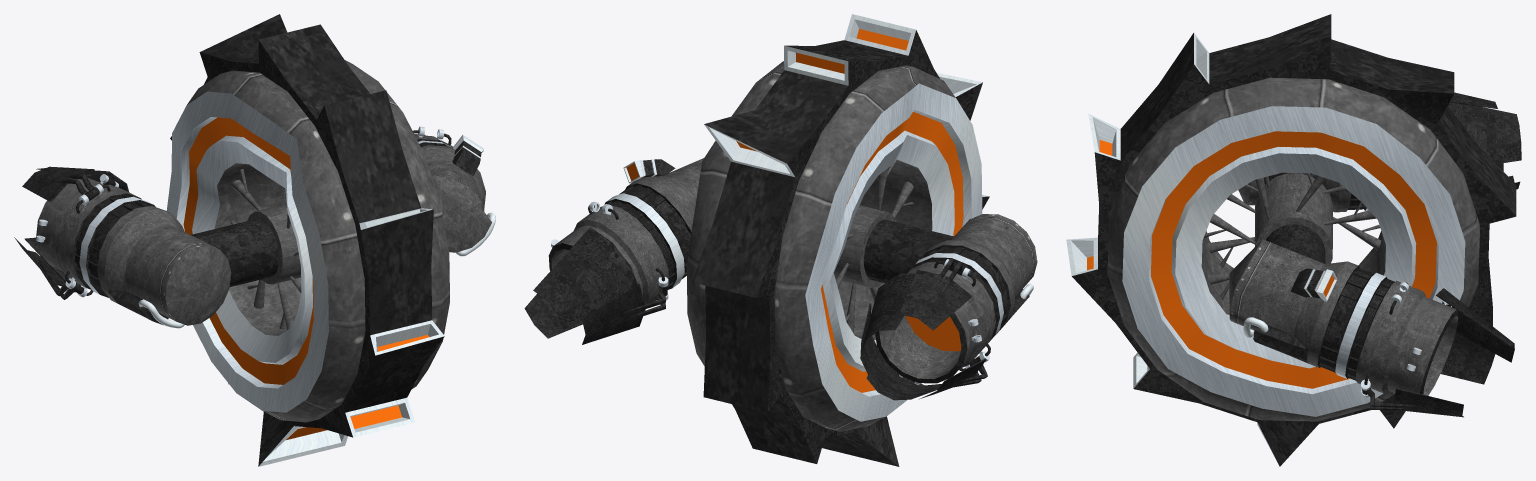
Rendered from DeathWheel_60.dae.
3 renders of one model, left to right at view 1: azimuth 30°, elevation 25°; view 2: azimuth 150°, elevation 25°; view 3: azimuth 270°, elevation 25°, orthographic. The views are drawn at different scales.
Parts seen in each view (by area): view 1: DeathWheel_2, rightThruster, leftThruster, Axel, polySurface115, rightSpokes, ThickSpinner_ncl1_1, polySurface99, ThinSpinner_ncl1_1; view 2: DeathWheel_2, rightThruster, leftThruster, inFlap2, Axel, polySurface115, outFlap2, polySurface113, polySurface106, ThickSpinner, rightSpokes, outFlap1 (+4 smaller); view 3: DeathWheel_2, leftThruster, polySurface113, ThickSpinner, inFlap2, leftSpokes, outFlap2, outFlap1, Axel, rightSpokes, ThinSpinner, rightThruster.
Part boxes in pixels (x1,y1,x2,y2): DeathWheel_2: (166,14,449,466); rightThruster: (36,174,231,328); leftThruster: (413,126,495,256); Axel: (191,218,278,286); polySurface115: (22,166,99,202); rightSpokes: (230,169,301,329); ThickSpinner_ncl1_1: (88,202,153,297); polySurface99: (14,237,84,299); ThinSpinner_ncl1_1: (74,195,134,288); DeathWheel_2: (686,14,989,466); rightThruster: (875,214,1037,385); leftThruster: (548,158,703,304); inFlap2: (533,227,637,329); Axel: (864,219,953,283); polySurface115: (899,258,972,330); outFlap2: (582,283,667,344); polySurface113: (861,273,914,352); polySurface106: (866,350,941,400); ThickSpinner: (619,185,690,278); rightSpokes: (836,161,913,333); outFlap1: (524,293,582,338); DeathWheel_2: (1066,14,1516,466); leftThruster: (1229,239,1458,397); polySurface113: (1448,102,1521,162); ThickSpinner: (1319,267,1374,372); inFlap2: (1436,288,1514,362); leftSpokes: (1203,173,1375,299); outFlap2: (1440,332,1495,384); outFlap1: (1362,388,1463,417); Axel: (1264,172,1325,263); rightSpokes: (1207,176,1381,268); ThinSpinner: (1347,278,1394,380); rightThruster: (1238,178,1368,212).
Size of the model in its own units: 5.72 by 5.19 by 5.08.
